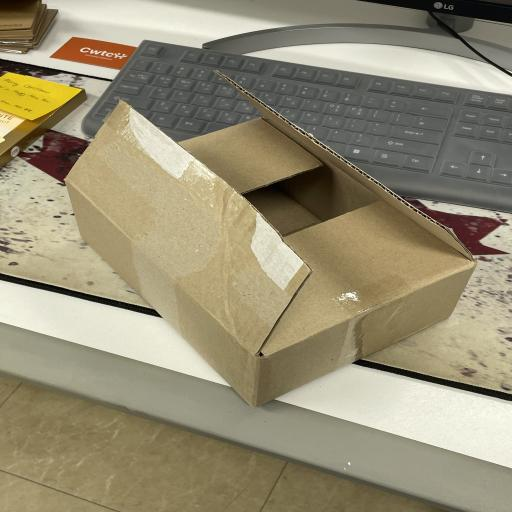box: (64, 70, 479, 407)
opened: (65, 70, 479, 356)
